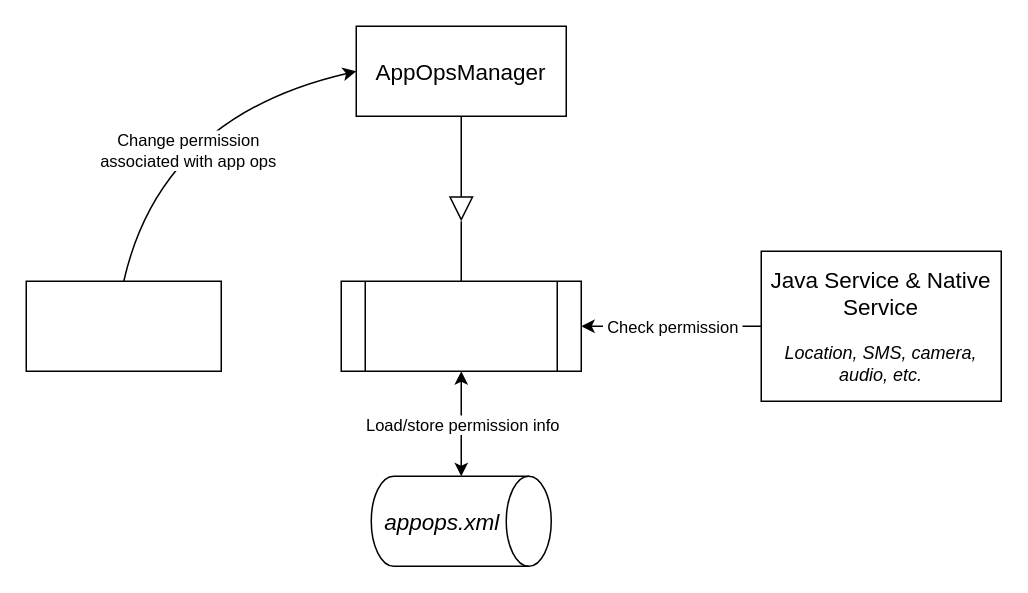
The diagram is 1028 pixels wide and 593 high, and some of its shapes have lost their labels. The shapes that lost their labels are listed below. From the top down, each one's centre as x and y in pixels, then its label:
At point 123,325: "Android Settings".
At point 460,325: "AppOpsService".
